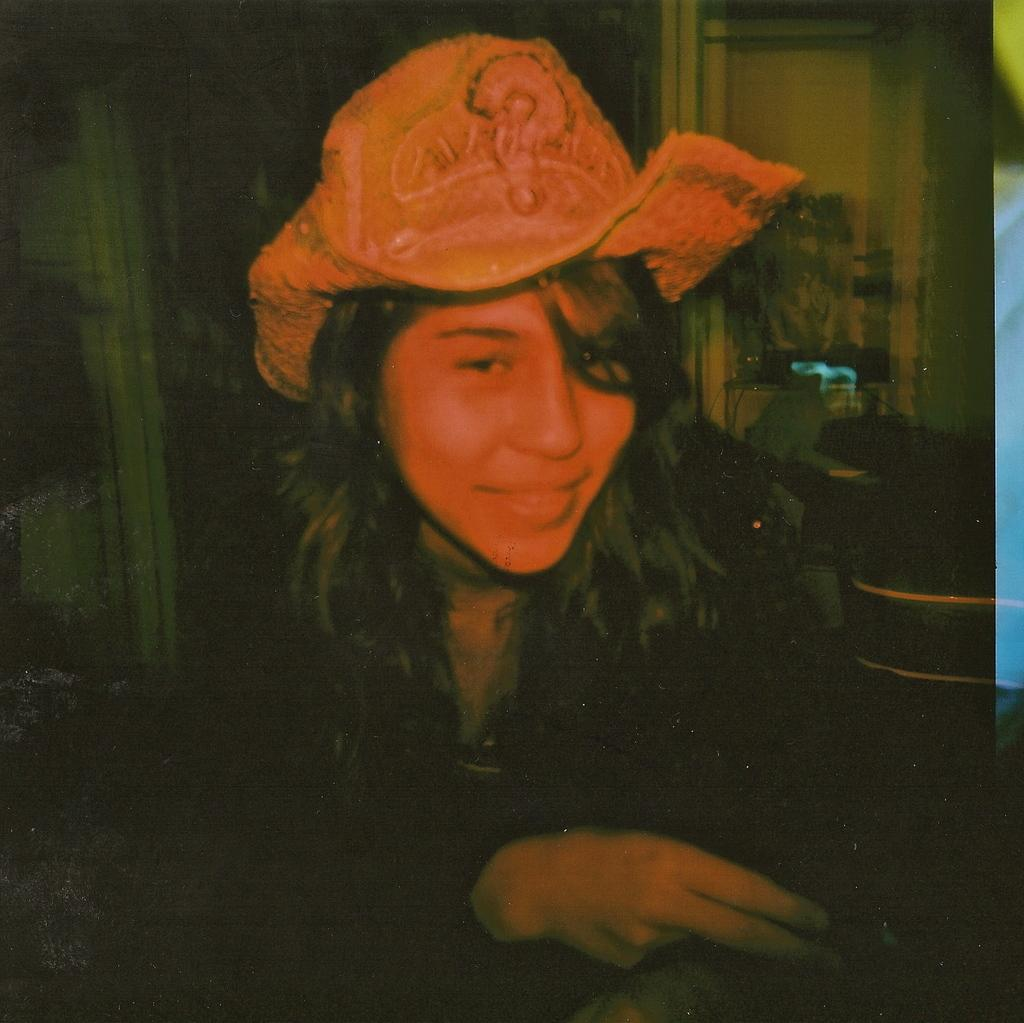Hat: (248, 32, 810, 400)
